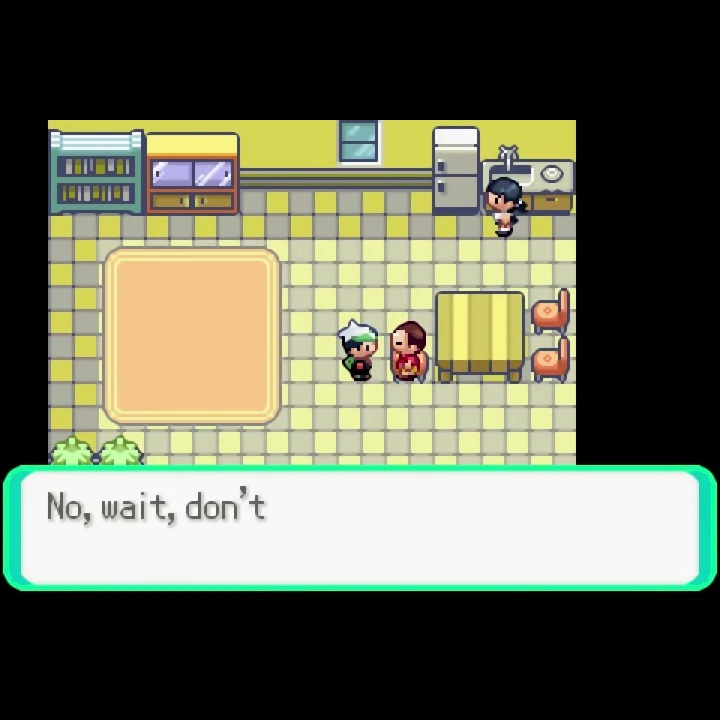npc: (333, 315, 380, 388), (485, 174, 530, 239), (386, 319, 429, 387)
